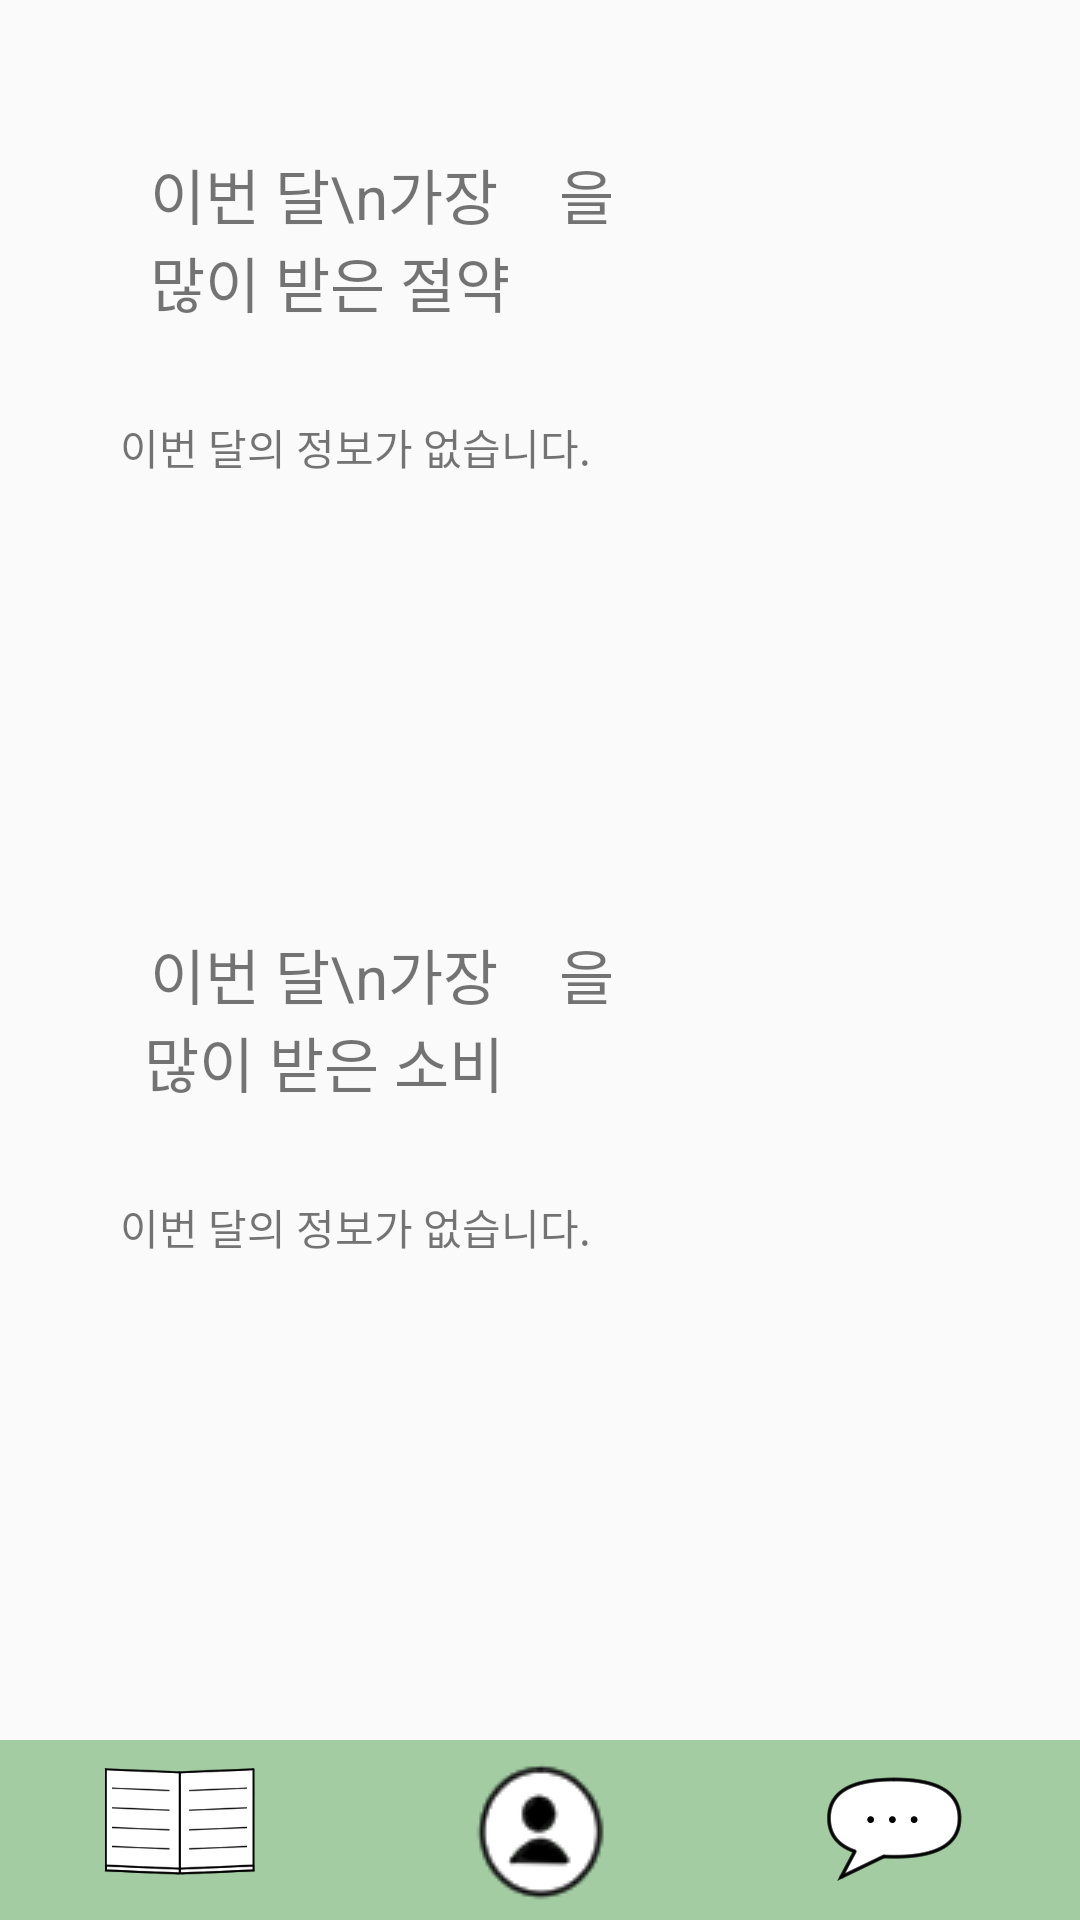

Where icons sit on this 1080 x 1920 app screen, as {"left": x1, "top": y1, "right": x2, "bottom": y2}:
account book: {"left": 105, "top": 1768, "right": 255, "bottom": 1875}
chatting: {"left": 827, "top": 1777, "right": 962, "bottom": 1881}
person: {"left": 478, "top": 1766, "right": 604, "bottom": 1899}
